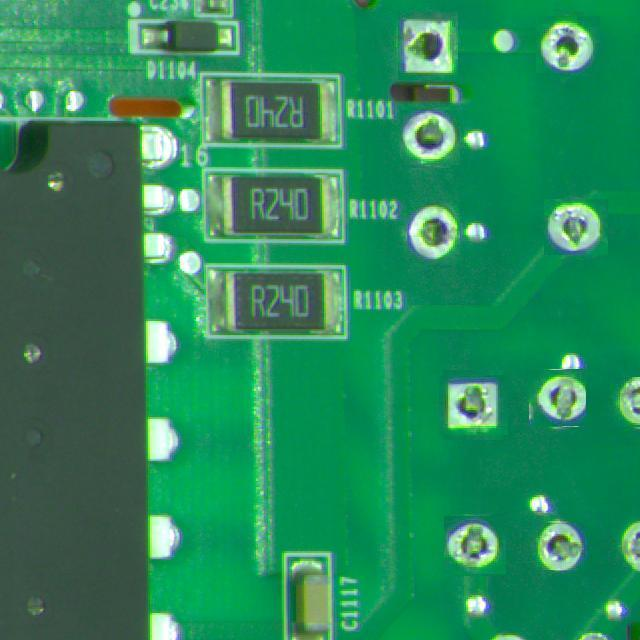lack_of_part: (440, 372, 506, 438), (398, 12, 458, 80), (546, 197, 607, 257), (445, 515, 506, 575), (538, 14, 598, 74), (407, 200, 460, 265), (401, 108, 458, 166), (528, 369, 586, 426), (535, 523, 584, 570), (614, 377, 640, 427)
